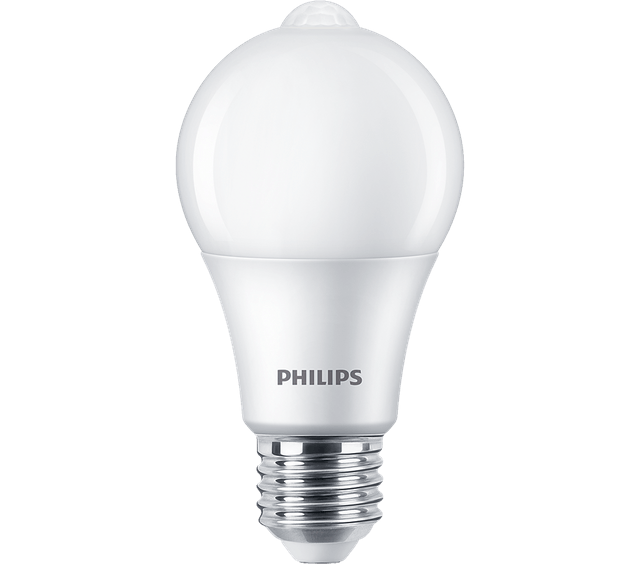Light_bulb: (171, 1, 467, 563)
